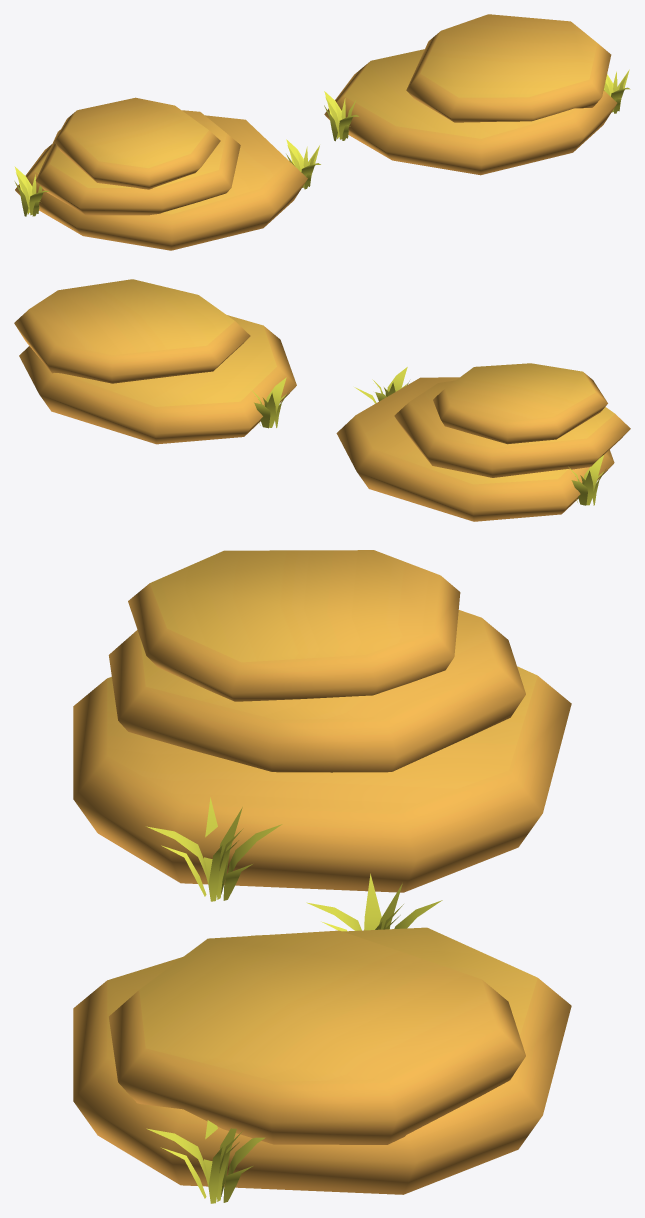
The model's file is Dune.glb.
3 views of the same model, one above another, from view 1: azimuth 30°, elevation 25°; view 2: azimuth 150°, elevation 25°; view 3: azimuth 270°, elevation 25° (orthographic). The views are drawn at different scales.
Visible parts, largest first — view 1: Dune1, Dune2; view 2: Dune2, Dune1; view 3: Dune2, Dune1.
Part boxes in pixels (x1=…): Dune1: x1=324, y1=14, x2=630, y2=175; Dune2: x1=14, y1=97, x2=320, y2=250; Dune2: x1=336, y1=363, x2=630, y2=521; Dune1: x1=14, y1=279, x2=296, y2=444; Dune2: x1=73, y1=550, x2=571, y2=901; Dune1: x1=73, y1=873, x2=571, y2=1203.
Bounding box in the file's own units: 11.52 × 1.5 × 4.24.
Materials: 2 (1 with a texture image).
